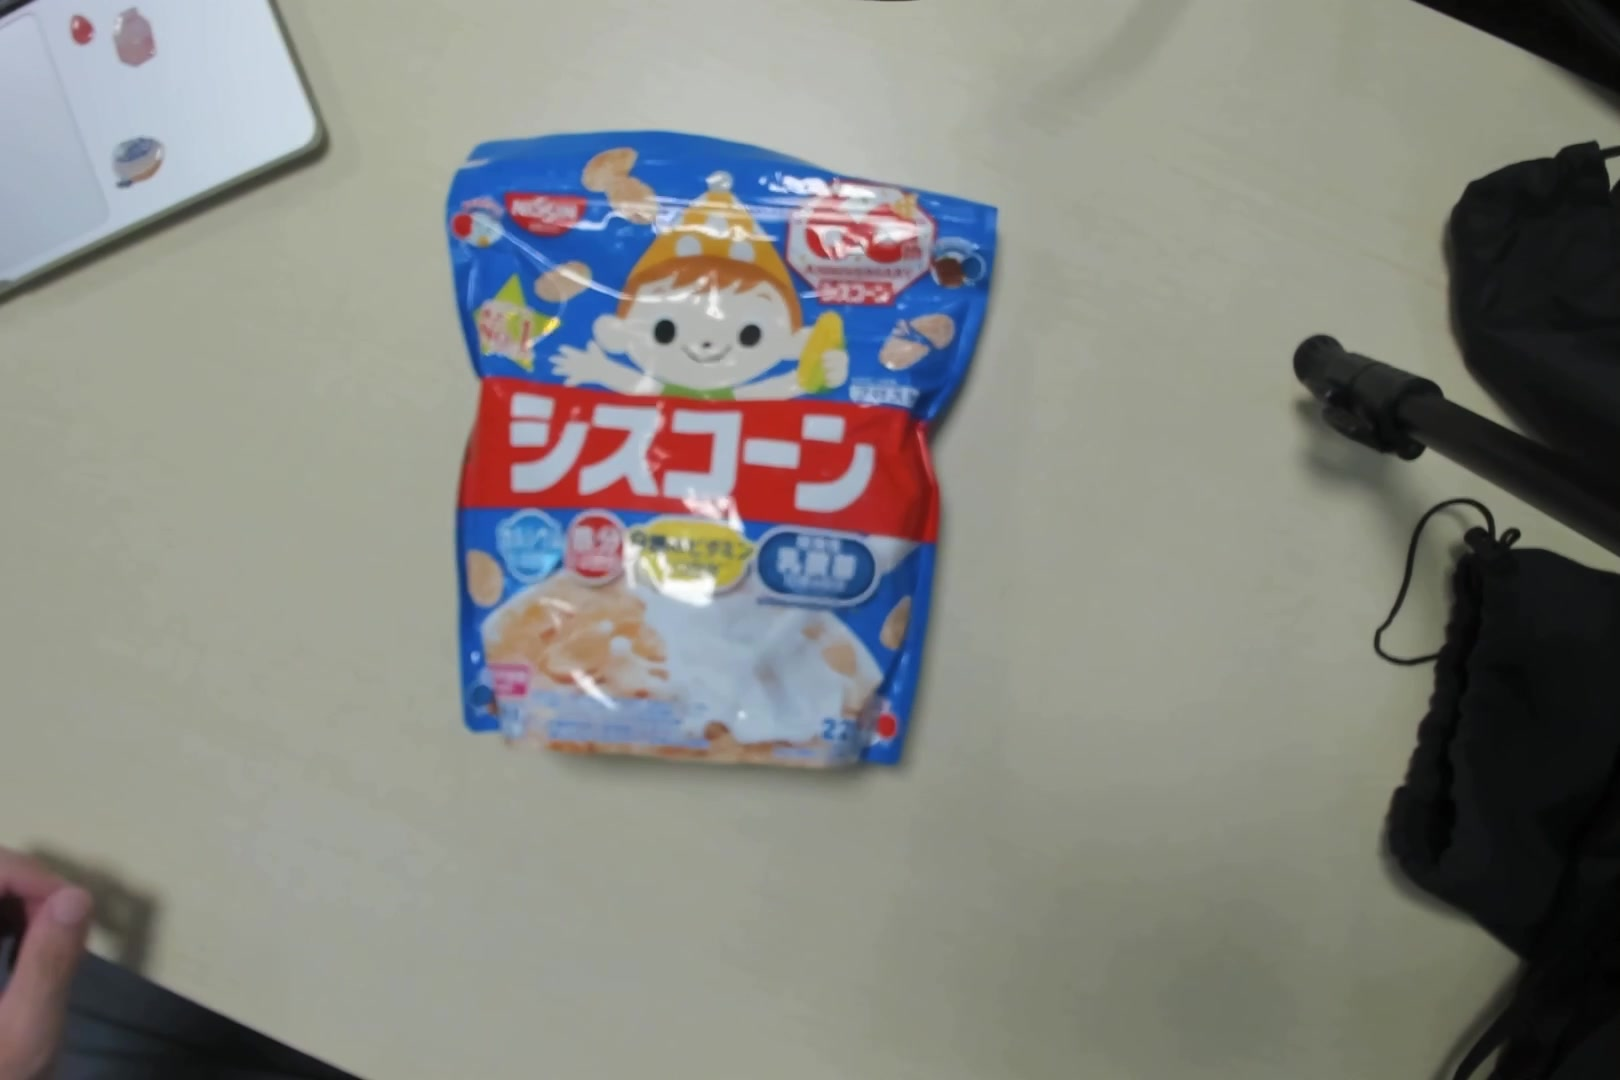BreakfastCereals_200-299g_NonHalal_NonHealthy: (445, 146, 984, 765)
